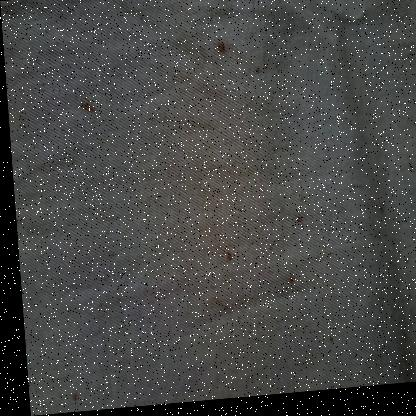spot: (211, 34, 232, 67), (76, 96, 97, 122), (249, 59, 265, 88), (208, 294, 228, 317), (287, 206, 302, 235), (271, 54, 286, 83), (282, 270, 295, 295), (219, 247, 232, 272), (395, 253, 409, 274), (319, 334, 330, 357), (372, 201, 382, 220), (66, 383, 75, 403)
